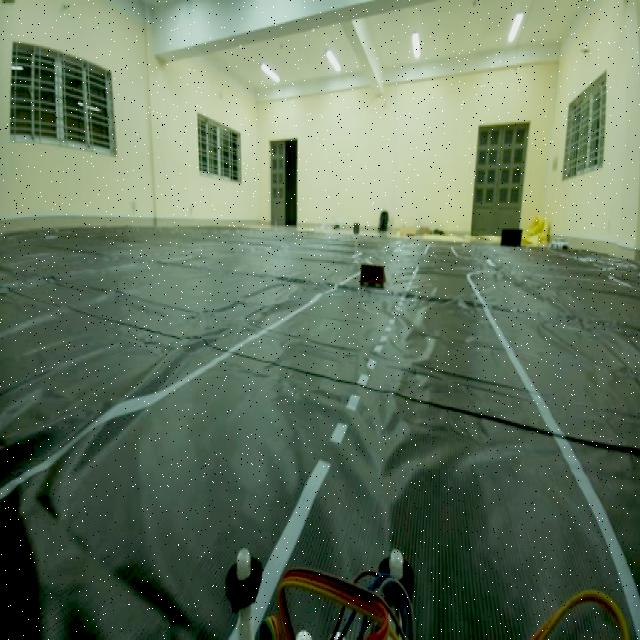roadblock: (359, 260, 389, 290)
